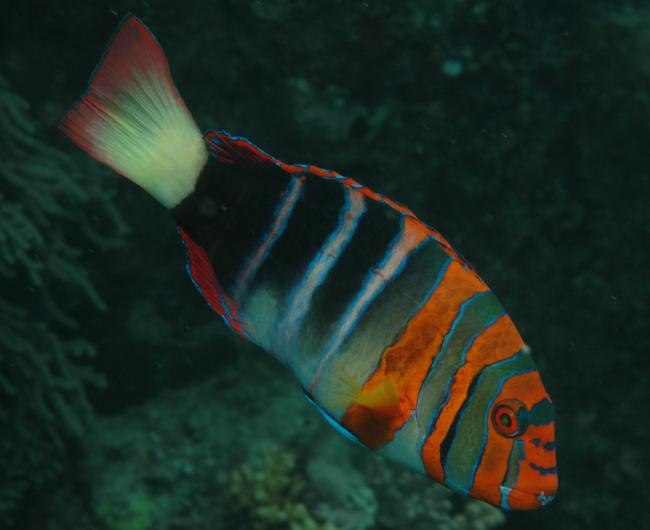fish: (58, 14, 560, 510)
